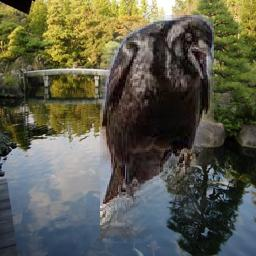Crow: (100, 15, 214, 243)
